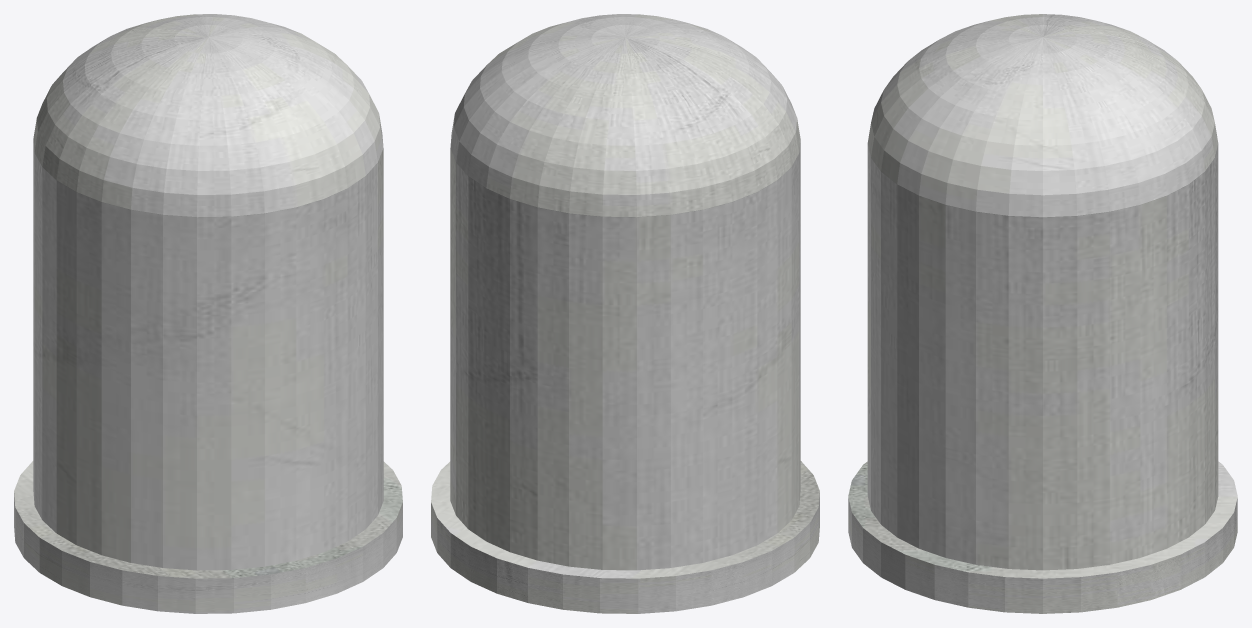
Rendered from CVD.glb.
The picture shows the model from 3 angles, left to right: view 1: azimuth 30°, elevation 25°; view 2: azimuth 150°, elevation 25°; view 3: azimuth 270°, elevation 25°; orthographic projection.
Visible parts, largest first — view 1: 还原炉上表面, 还原炉底盘; view 2: 还原炉上表面, 还原炉底盘; view 3: 还原炉上表面, 还原炉底盘.
Part boxes in pixels (<box>): 还原炉上表面: <box>33,14,383,570</box>; 还原炉底盘: <box>14,461,402,613</box>; 还原炉上表面: <box>450,14,800,570</box>; 还原炉底盘: <box>431,461,819,613</box>; 还原炉上表面: <box>867,14,1218,570</box>; 还原炉底盘: <box>848,461,1237,613</box>.
Bounding box in the file's own units: 2 × 2.8 × 2.
Materials: 27 (27 with a texture image).
